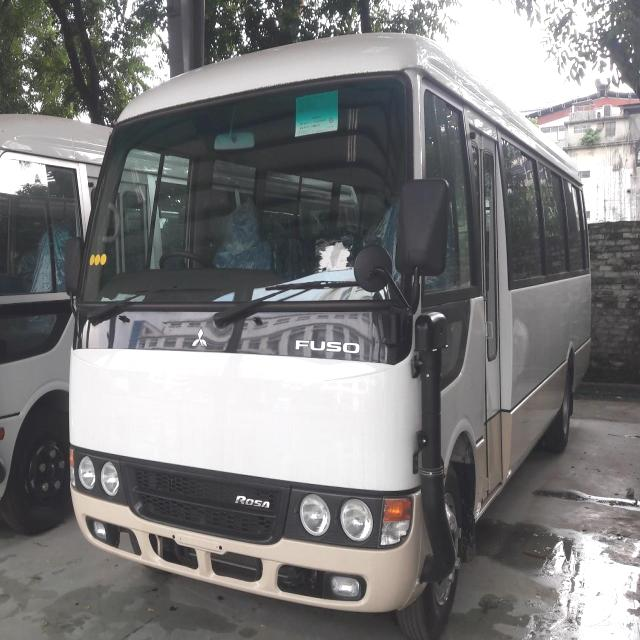bus: (60, 13, 609, 640)
